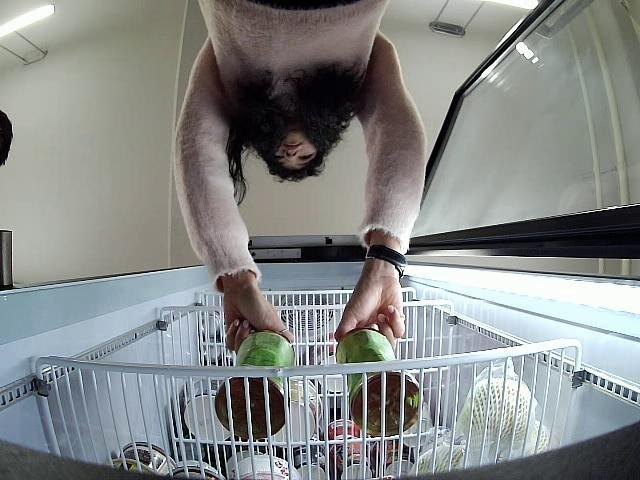19_17cha: (336, 326, 420, 436), (217, 328, 296, 434)
